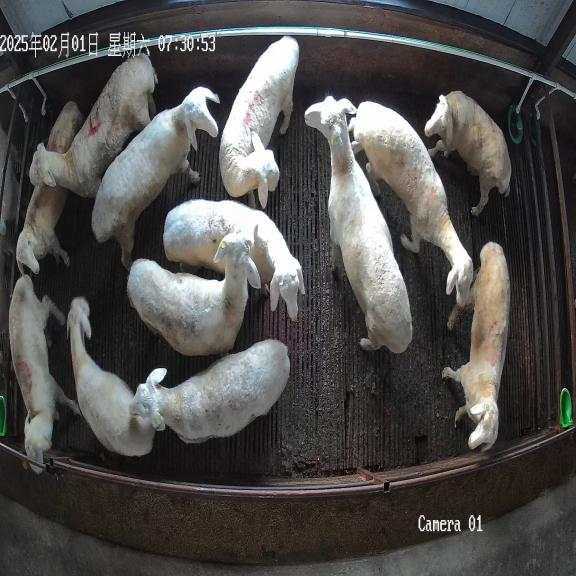lying: (67, 297, 163, 456)
stand: (304, 96, 412, 353), (349, 102, 472, 306), (92, 86, 219, 269), (30, 54, 157, 196), (163, 200, 305, 320), (127, 230, 261, 356), (130, 339, 290, 442), (442, 242, 510, 450), (219, 36, 299, 208), (9, 275, 80, 462), (17, 102, 83, 273), (425, 91, 511, 216)
